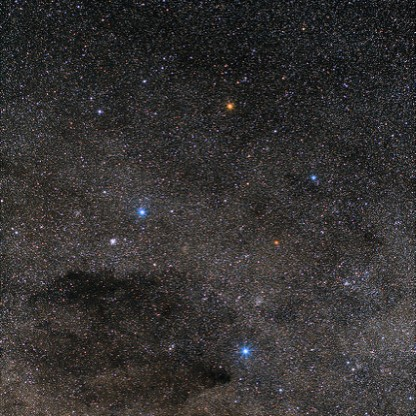Southern Cross: (230, 336, 262, 366), (303, 158, 327, 193), (131, 201, 156, 228), (218, 93, 241, 118)
